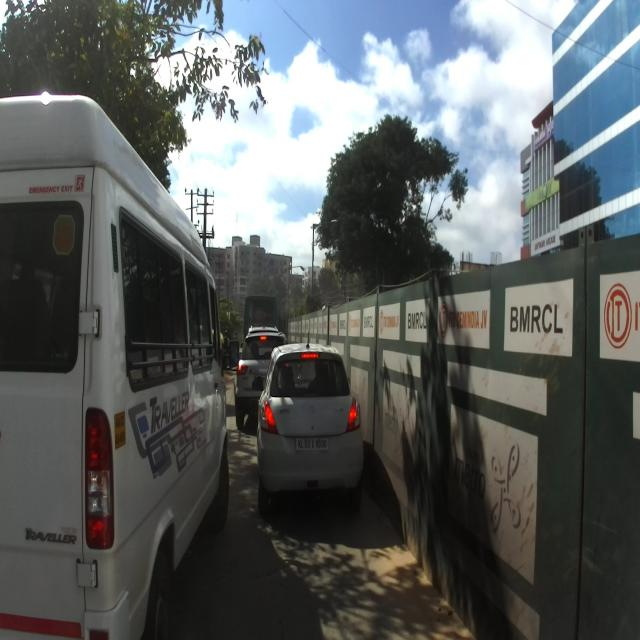car: (252, 331, 364, 515), (234, 319, 282, 428)
mini-bus: (0, 94, 238, 639)
